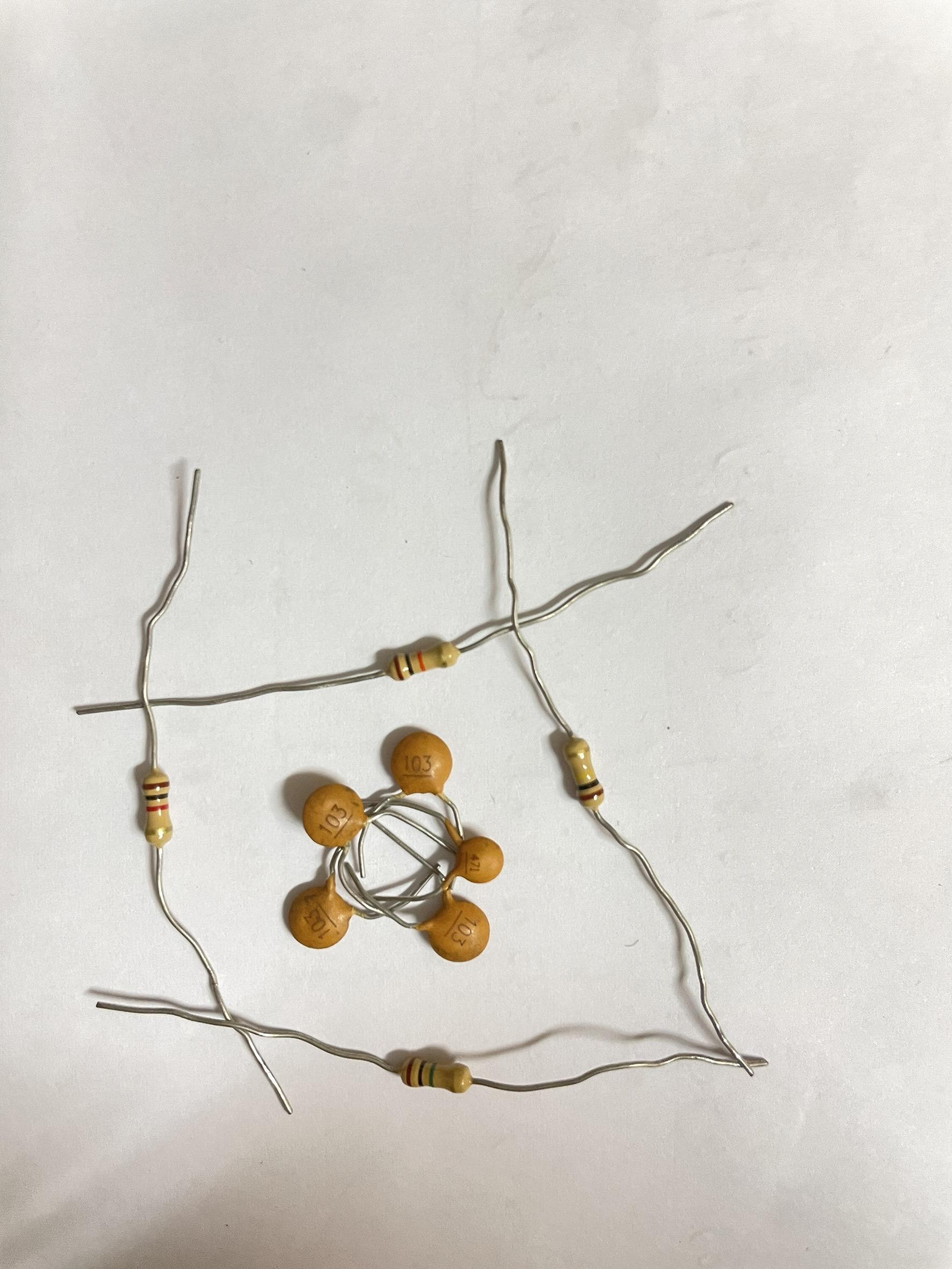resistor: (547, 718, 621, 818), (123, 755, 182, 843), (367, 626, 462, 678), (392, 1045, 488, 1090)
